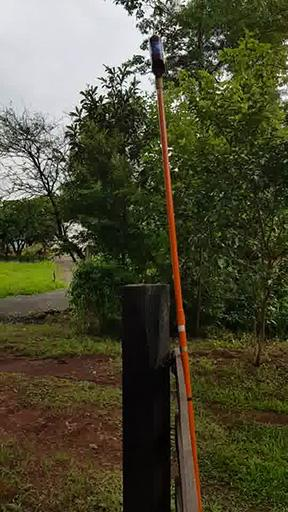Detector_Tensao_Contato: (148, 24, 166, 76)
Vara_Manobra: (151, 77, 203, 505)
